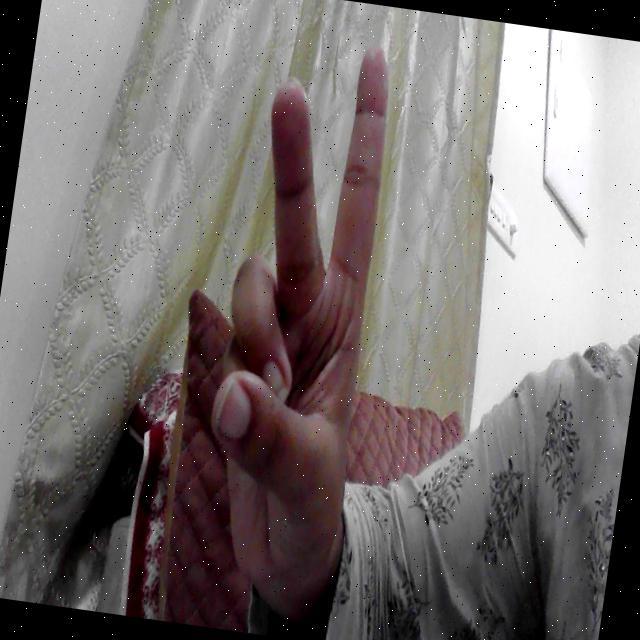Kartarimukha: (160, 16, 433, 634)
